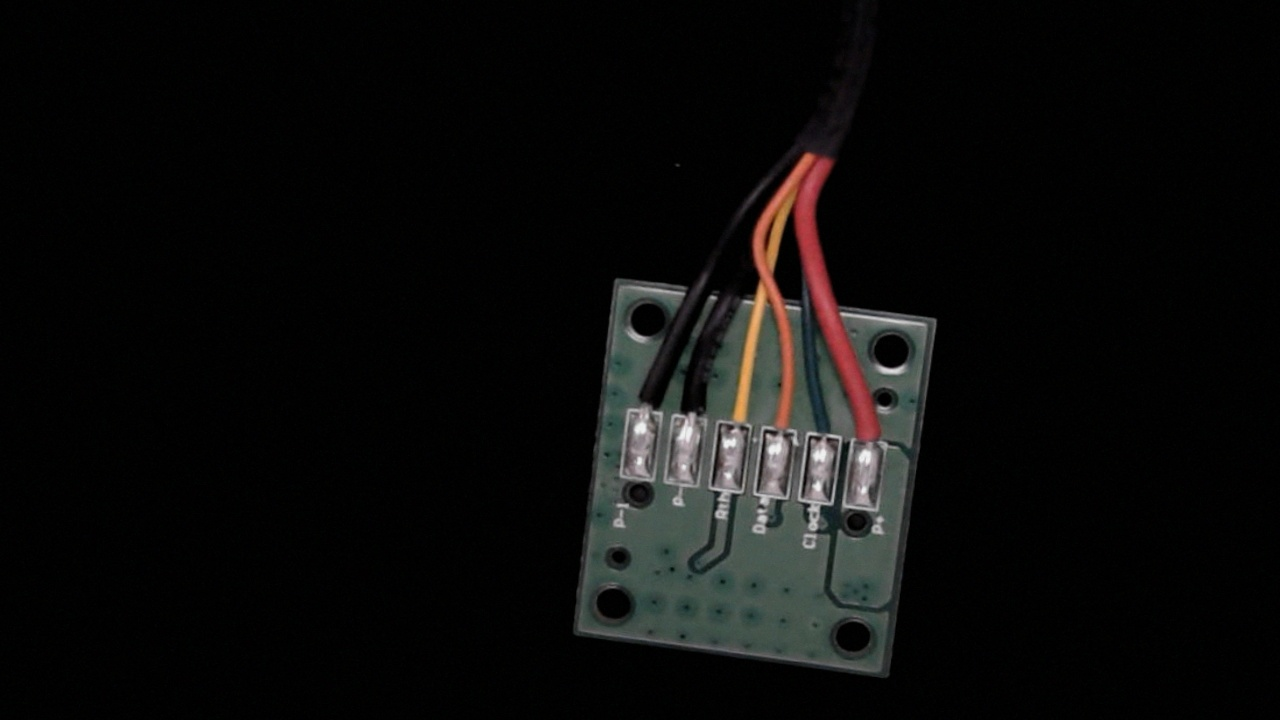Black: (671, 372, 714, 438)
Black1: (628, 357, 671, 431)
Green: (804, 388, 850, 461)
Orange: (761, 375, 807, 453)
Red: (848, 399, 894, 467)
Yellow: (717, 371, 760, 447)
